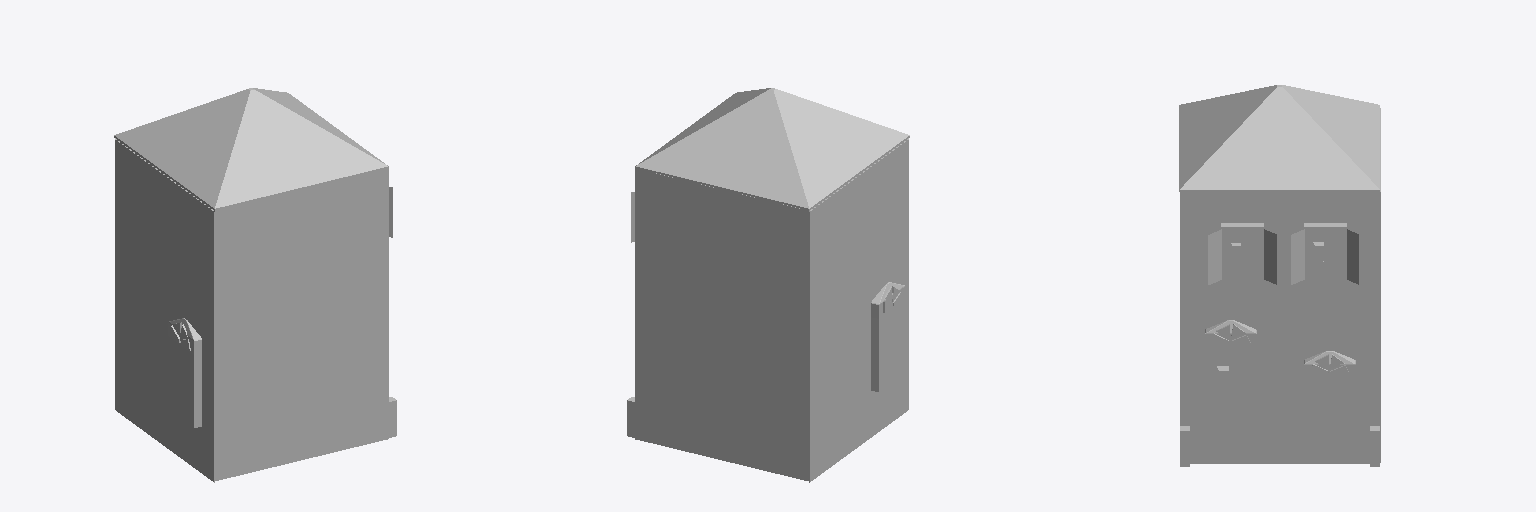
Rendered from Cuarto.obj.
3 renders of one model, left to right at view 1: azimuth 30°, elevation 25°; view 2: azimuth 150°, elevation 25°; view 3: azimuth 270°, elevation 25°, orthographic.
Visible parts, largest first — view 1: Izq_Afuera_Cube.007, Atras_Afuera_Cube.064, S_Arriba_Techo_Cube.002, Ventana_Abajo_M.002_Cube.011; view 2: Der_Afuera_Cube.009, Atras_Afuera_Cube.064, S_Arriba_Techo_Cube.002, Ventana_Abajo_M.002_Cube.011, S_DetrD_DPuerta_Cube.052; view 3: ENFRENTE_AFUERA_Cube.061, S_Arriba_Techo_Cube.002, Ventana_Abajo_M.008_Cube.016, Ventana_Abajo_M.021_Cube.003, Ventana_Abajo_M.001_Cube.006, S_AI_DPuerta_Cube.036, S_AD_DPuerta_Cube.029, S_A_II_VCobertura.001_Plane.005, S_A_II_VCobertura_Plane.010, S_A_DI_VCobertura_Plane.007, S_A_DI_VCobertura.001_Plane.004.
Part boxes in pixels (bbox=[...]): Izq_Afuera_Cube.007: bbox=[216, 169, 388, 480]; Atras_Afuera_Cube.064: bbox=[115, 139, 214, 482]; S_Arriba_Techo_Cube.002: bbox=[114, 88, 388, 210]; Ventana_Abajo_M.002_Cube.011: bbox=[168, 336, 201, 427]; Der_Afuera_Cube.009: bbox=[635, 168, 807, 480]; Atras_Afuera_Cube.064: bbox=[809, 139, 908, 482]; S_Arriba_Techo_Cube.002: bbox=[635, 88, 909, 210]; Ventana_Abajo_M.002_Cube.011: bbox=[871, 301, 904, 391]; S_DetrD_DPuerta_Cube.052: bbox=[871, 282, 905, 318]; ENFRENTE_AFUERA_Cube.061: bbox=[1181, 193, 1379, 463]; S_Arriba_Techo_Cube.002: bbox=[1179, 85, 1379, 191]; Ventana_Abajo_M.008_Cube.016: bbox=[1205, 348, 1256, 420]; Ventana_Abajo_M.021_Cube.003: bbox=[1304, 223, 1346, 285]; Ventana_Abajo_M.001_Cube.006: bbox=[1221, 223, 1263, 285]; S_AI_DPuerta_Cube.036: bbox=[1205, 320, 1256, 347]; S_AD_DPuerta_Cube.029: bbox=[1304, 351, 1355, 377]; S_A_II_VCobertura.001_Plane.005: bbox=[1291, 229, 1304, 284]; S_A_II_VCobertura_Plane.010: bbox=[1208, 229, 1221, 284]; S_A_DI_VCobertura_Plane.007: bbox=[1264, 229, 1276, 284]; S_A_DI_VCobertura.001_Plane.004: bbox=[1347, 229, 1358, 284].
Size of the model in its own units: 23.47 by 37.2 by 20.22.